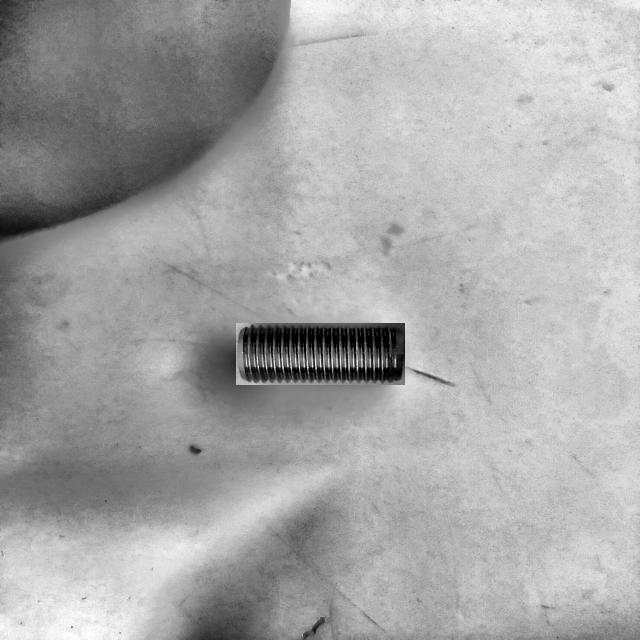Normal: (236, 323, 405, 385)
